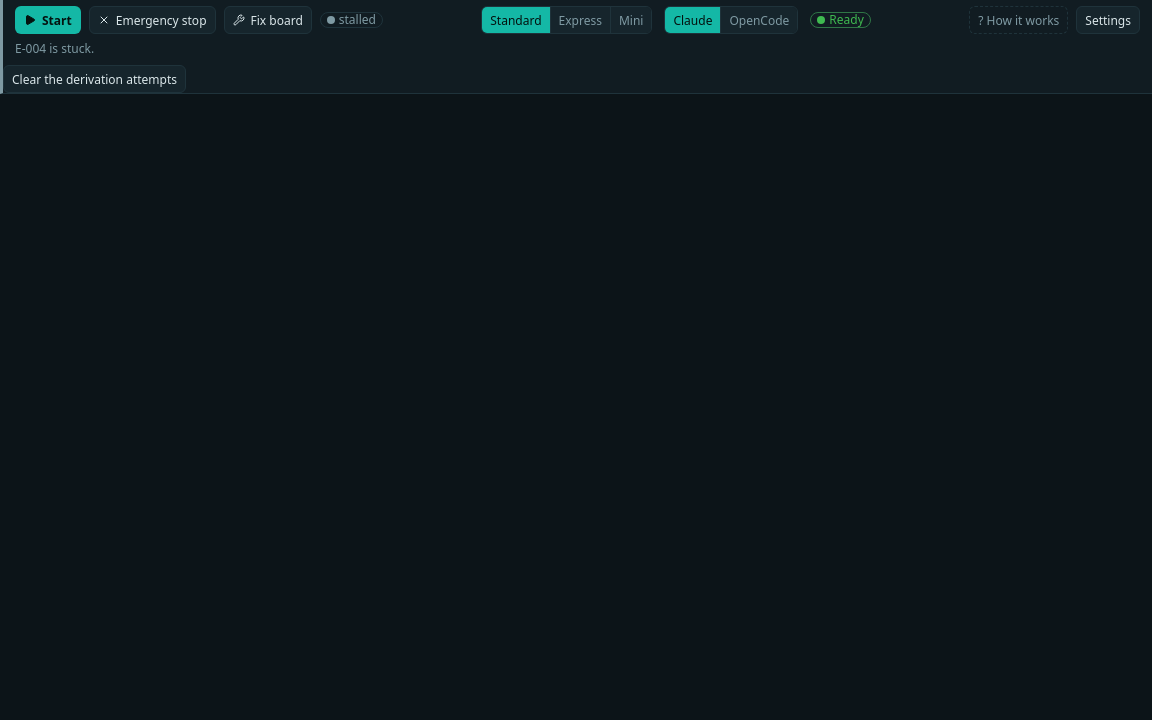
Test: Fix board › shows the server’s refusal verbatim
Step 1. Click the button with test id "ap-fix-board" → [268, 20], box [224, 6, 312, 34]
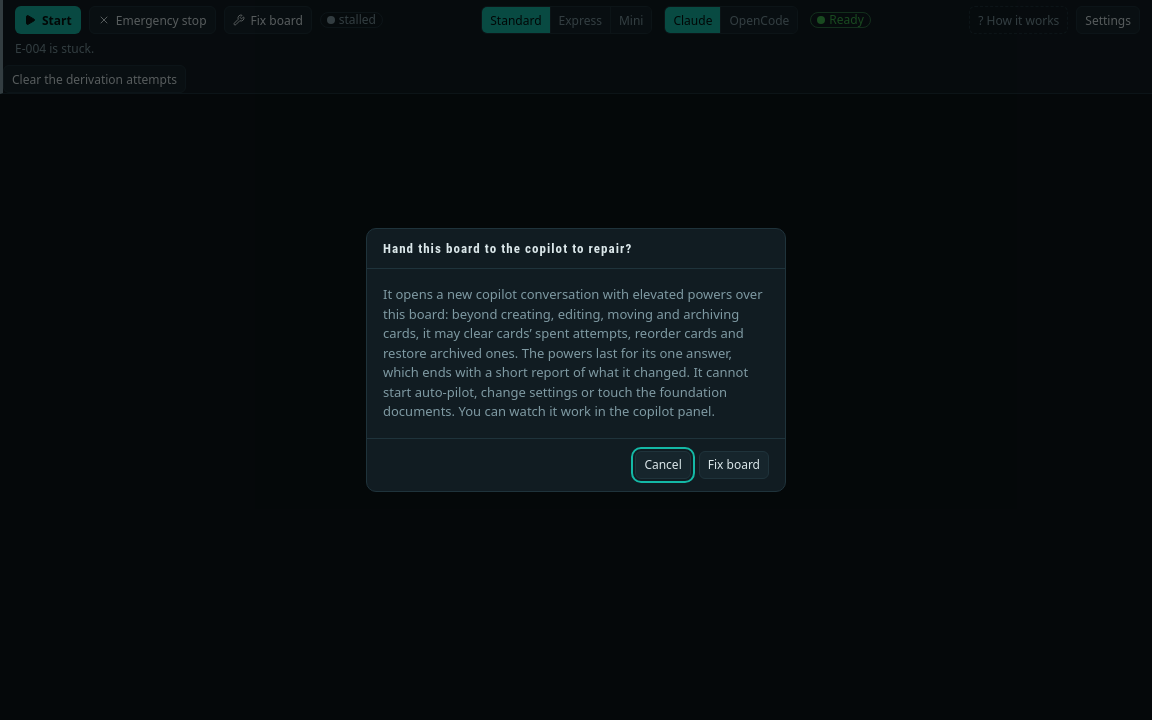
Step 2. Click the button "Fix board" → [734, 465], box [699, 451, 769, 479]
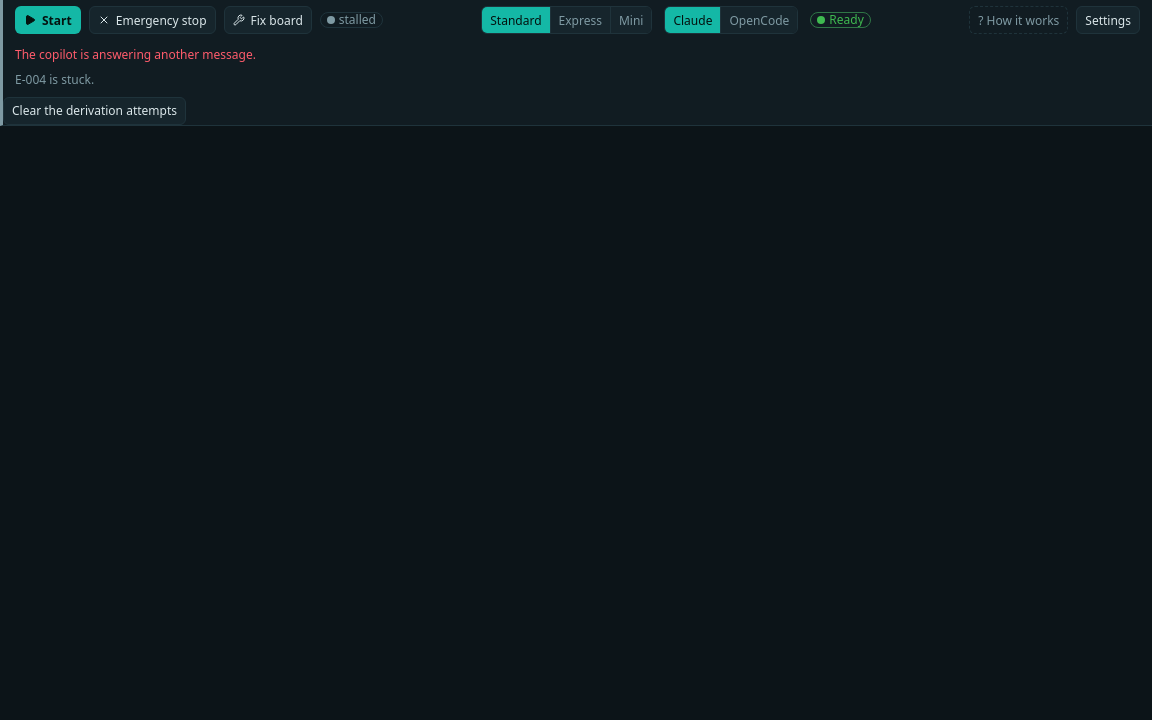
Result: the text with test id "ap-bar-error" reads "The copilot is answering another message." at [15, 46, 256, 63]
